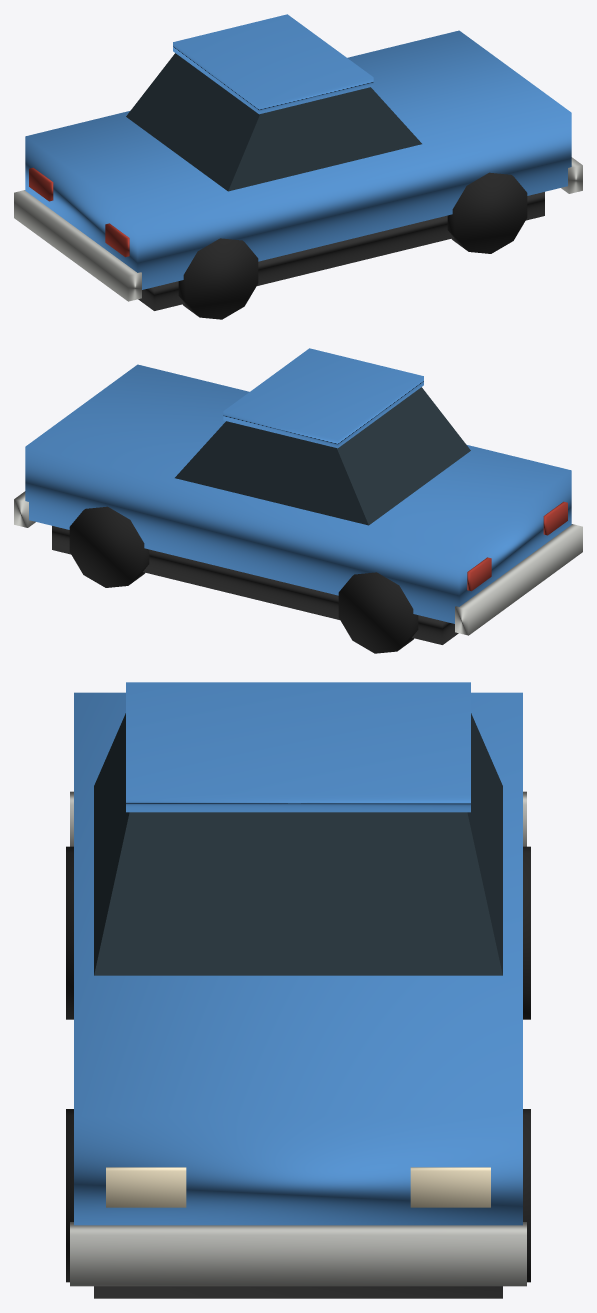
File: street_lp_car.glb
3 views of the same model, one above another, from view 1: azimuth 30°, elevation 25°; view 2: azimuth 150°, elevation 25°; view 3: azimuth 270°, elevation 25° (orthographic). The views are drawn at different scales.
Parts seen in each view (by area): view 1: street_lp_car; view 2: street_lp_car; view 3: street_lp_car.
Boxes of the visible parts, bbox=[...] form: street_lp_car: bbox=[14, 14, 582, 319]; street_lp_car: bbox=[14, 348, 582, 653]; street_lp_car: bbox=[66, 682, 530, 1298].
Bounding box in the file's own units: 2.62 × 1.05 × 1.16.
